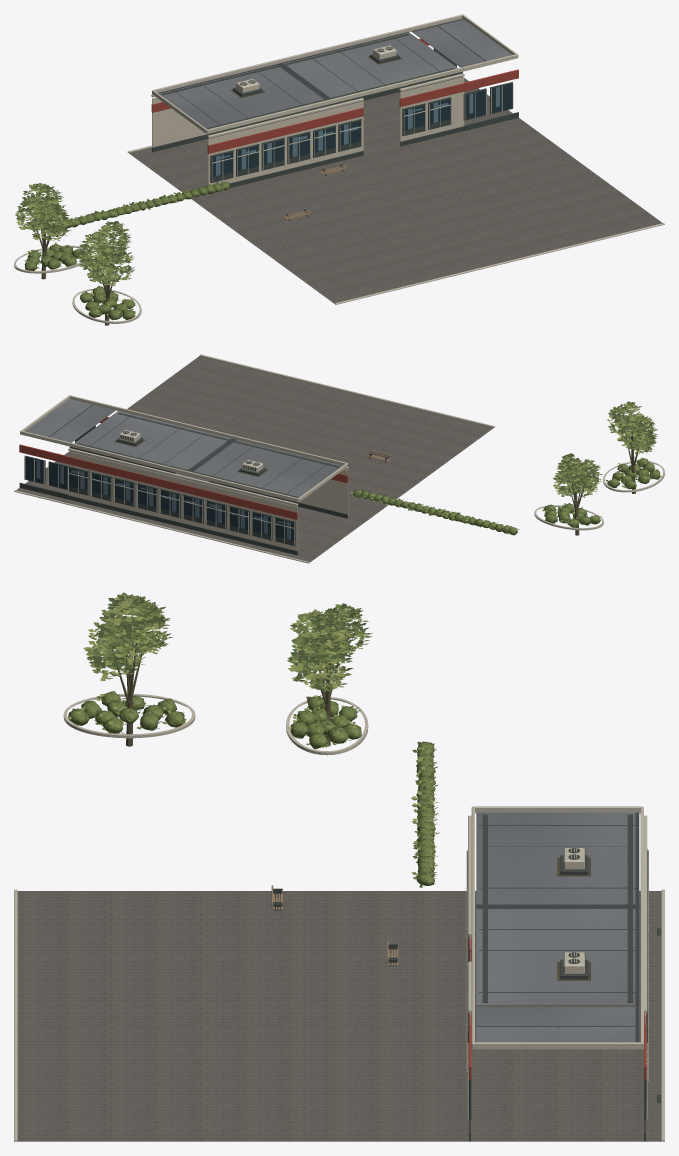
Rendered from court.glb.
3 renders of one model, top to bottom at view 1: azimuth 30°, elevation 25°; view 2: azimuth 150°, elevation 25°; view 3: azimuth 270°, elevation 25°, orthographic. The views are drawn at different scales.
Parts seen in each view (by area): view 1: fixed:limestone, srap:roof-felt, fixed:leaf shadow, srap:powder coated graphite, srap:plaster, srap:limestone coping, fixed:foliage, srap:smoked glazing, fixed:limestone coping, fixed:roof-felt, srap:SRAP enamel, srap:soft reflected sky (+3 smaller); view 2: fixed:limestone, srap:roof-felt, srap:powder coated graphite, srap:plaster, srap:limestone coping, fixed:leaf shadow, fixed:limestone coping, fixed:foliage, srap:smoked glazing, fixed:roof-felt, srap:SRAP enamel, srap:soft reflected sky (+4 smaller); view 3: fixed:limestone, srap:roof-felt, fixed:leaf shadow, fixed:foliage, fixed:roof-felt, fixed:limestone coping, srap:limestone coping, srap:powder coated graphite, fixed:bark.
Boxes of the visible parts, x1,y1,x2,y2 form: fixed:limestone: [129, 77, 662, 304]; srap:roof-felt: [158, 32, 457, 129]; fixed:leaf shadow: [15, 181, 229, 319]; srap:powder coated graphite: [152, 34, 464, 188]; srap:plaster: [152, 77, 464, 185]; srap:limestone coping: [151, 27, 464, 181]; fixed:foliage: [24, 181, 229, 320]; srap:smoked glazing: [212, 99, 450, 177]; fixed:limestone coping: [14, 14, 664, 323]; fixed:roof-felt: [411, 18, 511, 67]; srap:SRAP enamel: [151, 83, 464, 153]; srap:soft reflected sky: [216, 102, 448, 175]; fixed:limestone: [16, 356, 494, 562]; srap:roof-felt: [74, 411, 342, 498]; srap:powder coated graphite: [68, 412, 347, 555]; srap:plaster: [68, 451, 348, 550]; srap:limestone coping: [68, 407, 348, 545]; fixed:leaf shadow: [350, 401, 661, 535]; fixed:limestone coping: [14, 354, 664, 563]; fixed:foliage: [353, 458, 660, 535]; srap:smoked glazing: [69, 468, 293, 540]; fixed:roof-felt: [25, 399, 115, 442]; srap:SRAP enamel: [68, 457, 348, 519]; srap:soft reflected sky: [71, 470, 290, 539]; fixed:limestone: [17, 891, 661, 1141]; srap:roof-felt: [476, 812, 639, 1005]; fixed:leaf shadow: [68, 592, 439, 887]; fixed:foliage: [68, 691, 435, 885]; fixed:roof-felt: [476, 1007, 639, 1042]; fixed:limestone coping: [14, 694, 664, 1141]; srap:limestone coping: [466, 806, 648, 1081]; srap:powder coated graphite: [468, 814, 647, 1098]; fixed:bark: [112, 625, 345, 746].
Bounding box in the file's own units: 60 × 10.18 × 39.52.
15 materials, 4 textured.
